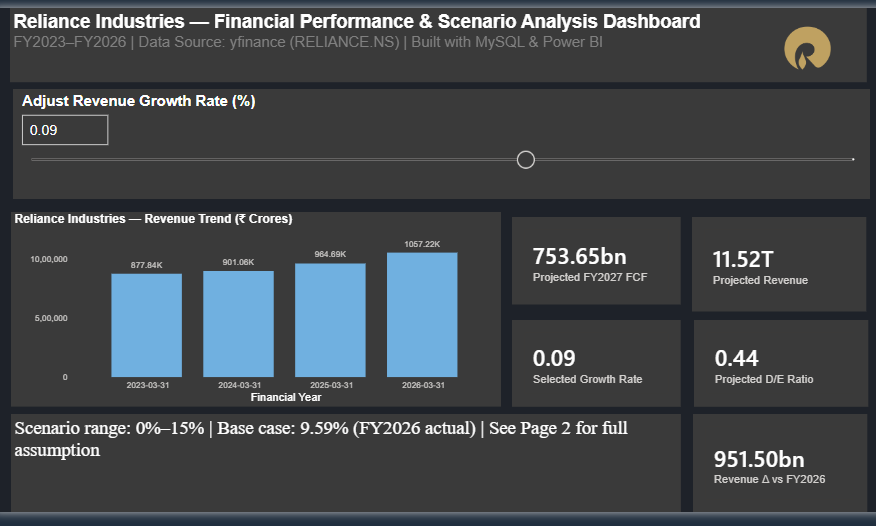

This screenshot's page, from the dashboard's own definition file:
{"tool":"powerbi","page":{"name":"What if analysis dashboard","canvas":[1280,720],"ordinal":0},"visuals":[{"type":"slicer","fields":{"Values":["Revenue Growth Rate .Revenue Growth Rate "]},"box":[24.8,115.6,1222.2,156.9],"z":0},{"type":"cardVisual","fields":{"Data":["Revenue Growth Rate .Revenue Growth Rate  Value"]},"box":[741.8,445.1,241.5,123.6],"z":1000},{"type":"cardVisual","fields":{"Data":["reliance_analysis reliance_financial_summary.Projected Revenue"]},"box":[999.3,298.2,248.7,135.3],"z":2000},{"type":"cardVisual","fields":{"Data":["Revenue Growth Rate .Projected Free Cash Flow"]},"box":[741.8,298.2,241.5,125.1],"z":3000},{"type":"cardVisual","fields":{"Data":["Revenue Growth Rate .Projected Debt to Equity"]},"box":[1000.7,445.1,248.7,123.6],"z":4000},{"type":"cardVisual","fields":{"Data":["reliance_analysis reliance_financial_summary.Revenue Change VS Actual"]},"box":[1000.6,579.4,249.1,140.4],"z":5000},{"type":"clusteredColumnChart","title":"Reliance Industries — Revenue Trend (₹ Crores)","fields":{"Category":["reliance_analysis reliance_powerbi_data.Year"],"Y":["Sum(reliance_analysis reliance_powerbi_data.Total_Revenue_Crores)"]},"box":[26.2,290.9,699.6,277.8],"z":6000},{"type":"textbox","box":[26.2,579.4,956.6,140.4],"z":7000},{"type":"textbox","box":[24.3,0,1224.2,105.8],"z":8000},{"type":"image","box":[1077.7,0,173.4,115.6],"z":10000}]}

Visuals, with their boxes on the page's 1280x720 design canvas (x1, y1, x2, y2). These are canvas units, not pixel positions in the 876x526 screenshot, which may show the page scaled, cropped or inside an application window:
slicer - Revenue Growth Rate .Revenue Growth Rate : {"left": 25, "top": 116, "right": 1247, "bottom": 272}
cardVisual - Revenue Growth Rate .Revenue Growth Rate  Value: {"left": 742, "top": 445, "right": 983, "bottom": 569}
cardVisual - reliance_analysis reliance_financial_summary.Projected Revenue: {"left": 999, "top": 298, "right": 1248, "bottom": 434}
cardVisual - Revenue Growth Rate .Projected Free Cash Flow: {"left": 742, "top": 298, "right": 983, "bottom": 423}
cardVisual - Revenue Growth Rate .Projected Debt to Equity: {"left": 1001, "top": 445, "right": 1249, "bottom": 569}
cardVisual - reliance_analysis reliance_financial_summary.Revenue Change VS Actual: {"left": 1001, "top": 579, "right": 1250, "bottom": 720}
"Reliance Industries — Revenue Trend (₹ Crores)" clusteredColumnChart: {"left": 26, "top": 291, "right": 726, "bottom": 569}
textbox: {"left": 26, "top": 579, "right": 983, "bottom": 720}
textbox: {"left": 24, "top": 0, "right": 1248, "bottom": 106}
image: {"left": 1078, "top": 0, "right": 1251, "bottom": 116}
